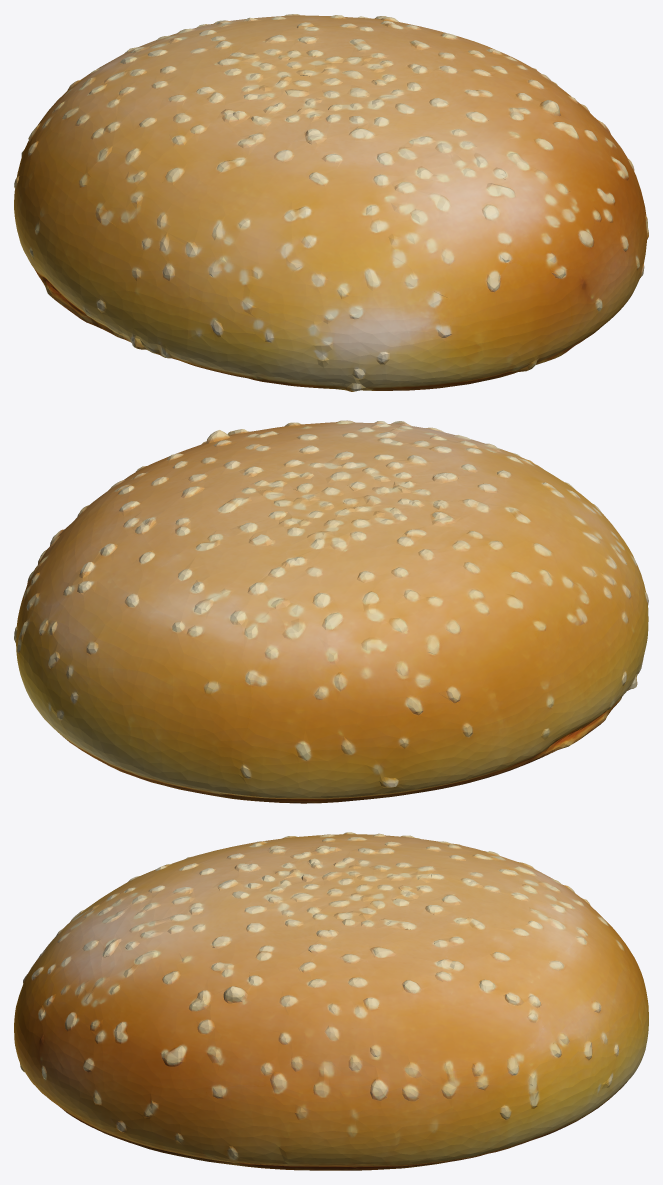
3 views of the same model, one above another, from view 1: azimuth 30°, elevation 25°; view 2: azimuth 150°, elevation 25°; view 3: azimuth 270°, elevation 25° (orthographic). The views are drawn at different scales.
Visible parts, largest first — view 1: world; view 2: world; view 3: world.
Boxes of the visible parts, x1,y1,x2,y2 form: world: (14,14,648,391); world: (14,420,648,803); world: (14,832,648,1170).
Size of the model in its own units: 0.9002 by 0.2942 by 0.998.
1 material, 1 textured.
